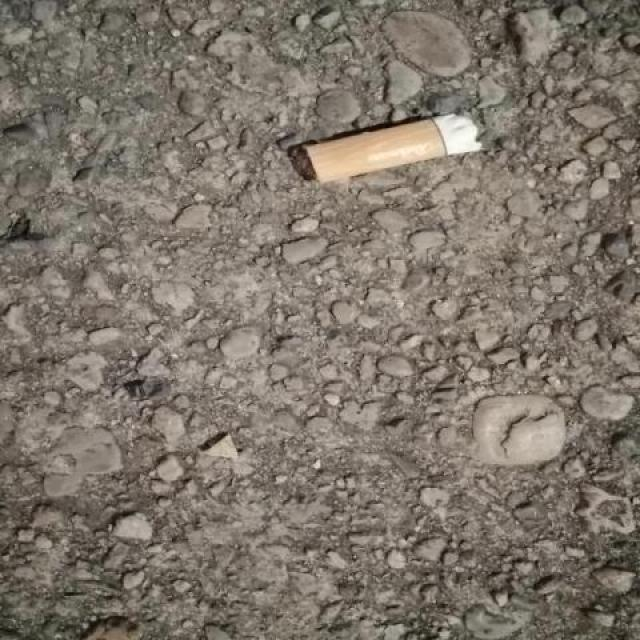non-organic waste: (294, 100, 491, 192)
